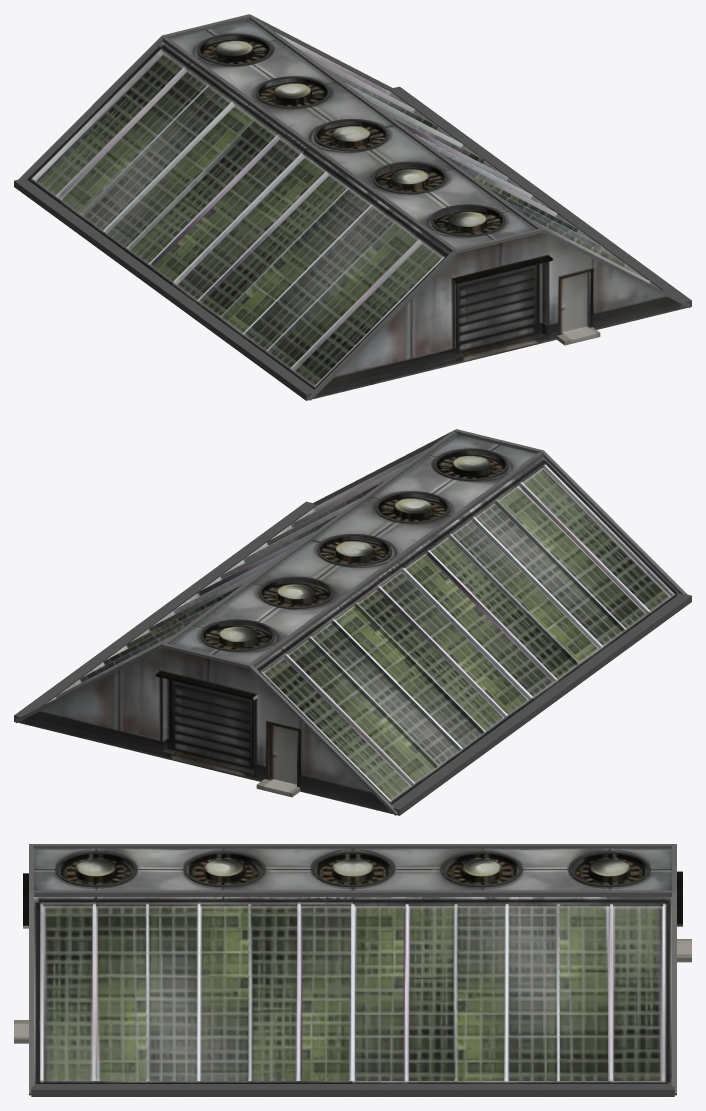
Rendered from greenhouse_cad.glb.
3 views of the same model, one above another, from view 1: azimuth 30°, elevation 25°; view 2: azimuth 150°, elevation 25°; view 3: azimuth 270°, elevation 25° (orthographic). The views are drawn at different scales.
Visible parts, largest first — view 1: GreenHouse; view 2: GreenHouse; view 3: GreenHouse.
Boxes of the visible parts, x1,y1,x2,y2 form: GreenHouse: (14, 14, 691, 400); GreenHouse: (14, 429, 691, 815); GreenHouse: (14, 844, 691, 1096).
Bounding box in the file's own units: 14.05 × 3.98 × 19.44.
1 material, 1 textured.
